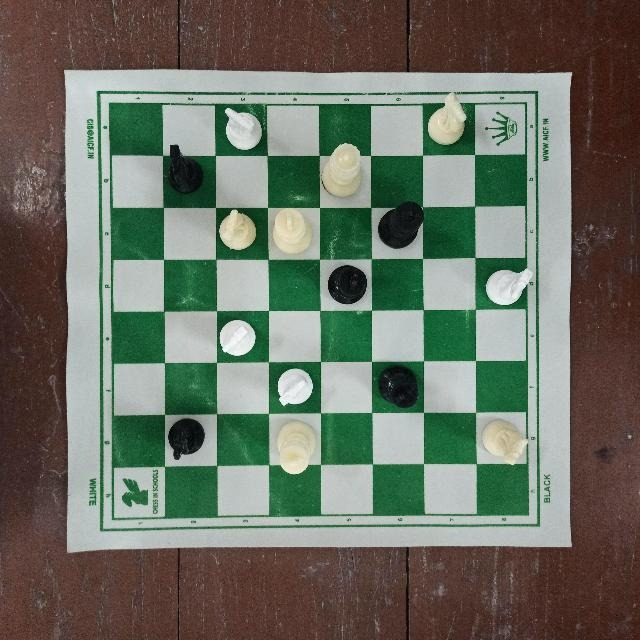black-knight: (160, 143, 204, 208), (378, 194, 425, 251), (166, 413, 212, 468), (373, 362, 425, 409), (325, 263, 369, 310)
white-king: (270, 416, 320, 479), (267, 205, 314, 247)
white-knight: (482, 415, 532, 471), (478, 265, 539, 307), (220, 103, 268, 155), (425, 90, 467, 148), (269, 364, 317, 411), (216, 315, 262, 361), (216, 204, 256, 253)
white-queen: (321, 144, 369, 207)
